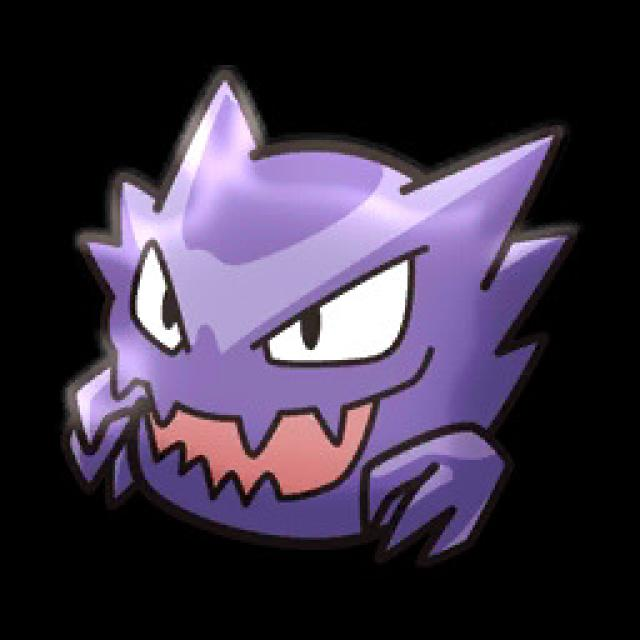Haunter: (61, 84, 545, 548)
